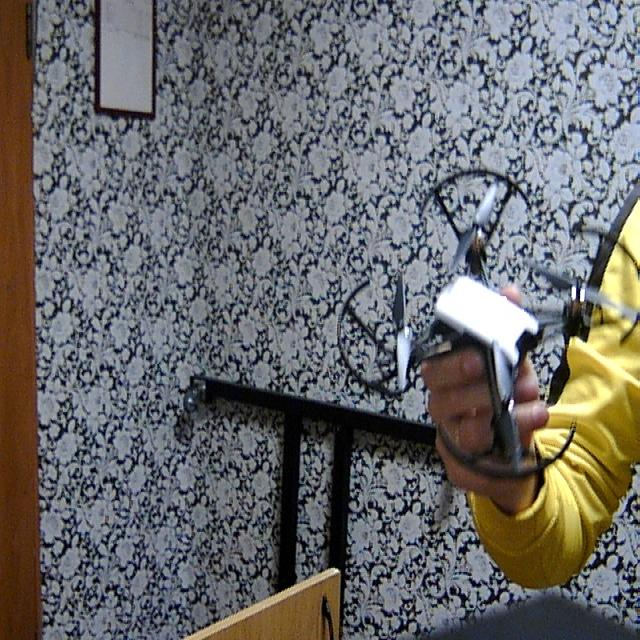drone: (333, 149, 640, 480)
